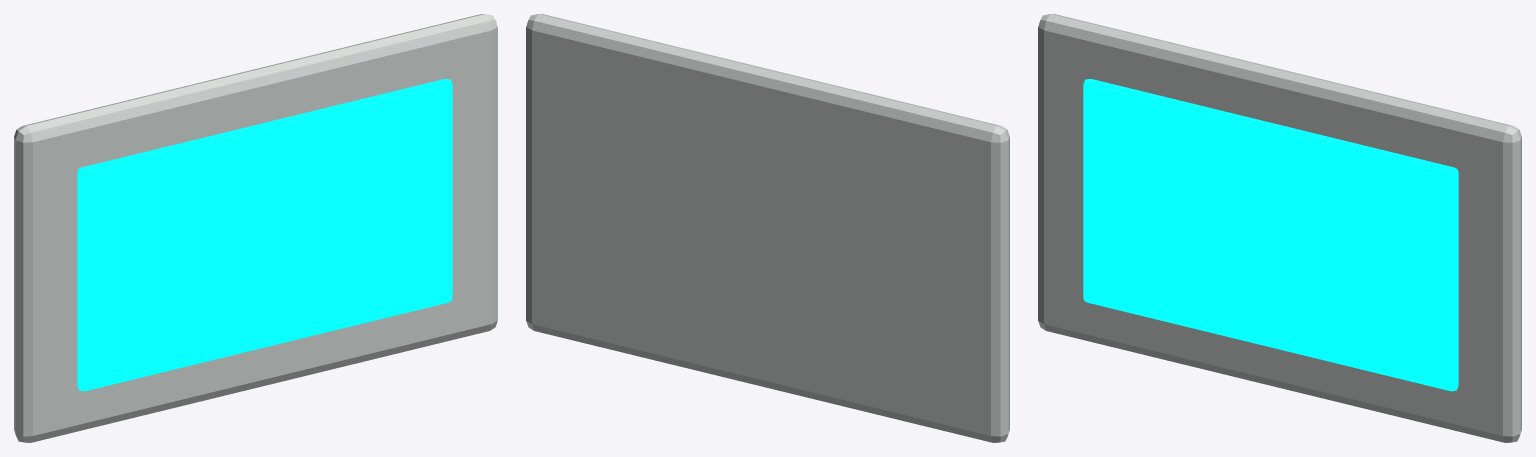
File: Repair_ReplacementPanel_L.glb
3 renders of one model, left to right at view 1: azimuth 30°, elevation 25°; view 2: azimuth 150°, elevation 25°; view 3: azimuth 330°, elevation 25°, orthographic.
Parts seen in each view (by area): view 1: Repair_ReplacementPanel_L_Cell, Repair_ReplacementPanel_L; view 2: Repair_ReplacementPanel_L; view 3: Repair_ReplacementPanel_L_Cell, Repair_ReplacementPanel_L.
Part boxes in pixels (x1,y1,x2,y2): Repair_ReplacementPanel_L_Cell: (77,79,452,391); Repair_ReplacementPanel_L: (14,14,497,442); Repair_ReplacementPanel_L: (526,14,1009,442); Repair_ReplacementPanel_L_Cell: (1083,79,1458,391); Repair_ReplacementPanel_L: (1038,14,1521,442).
Bounding box in the file's own units: 1.08 × 0.68 × 0.072.
